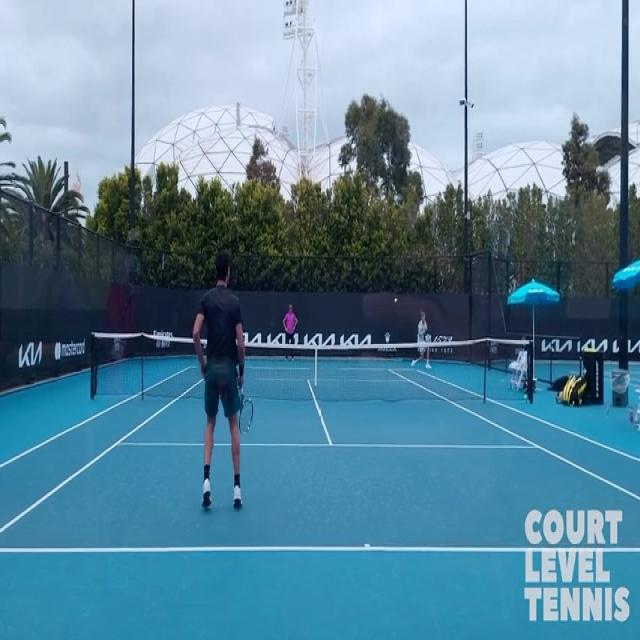ready-position: (189, 246, 259, 519)
